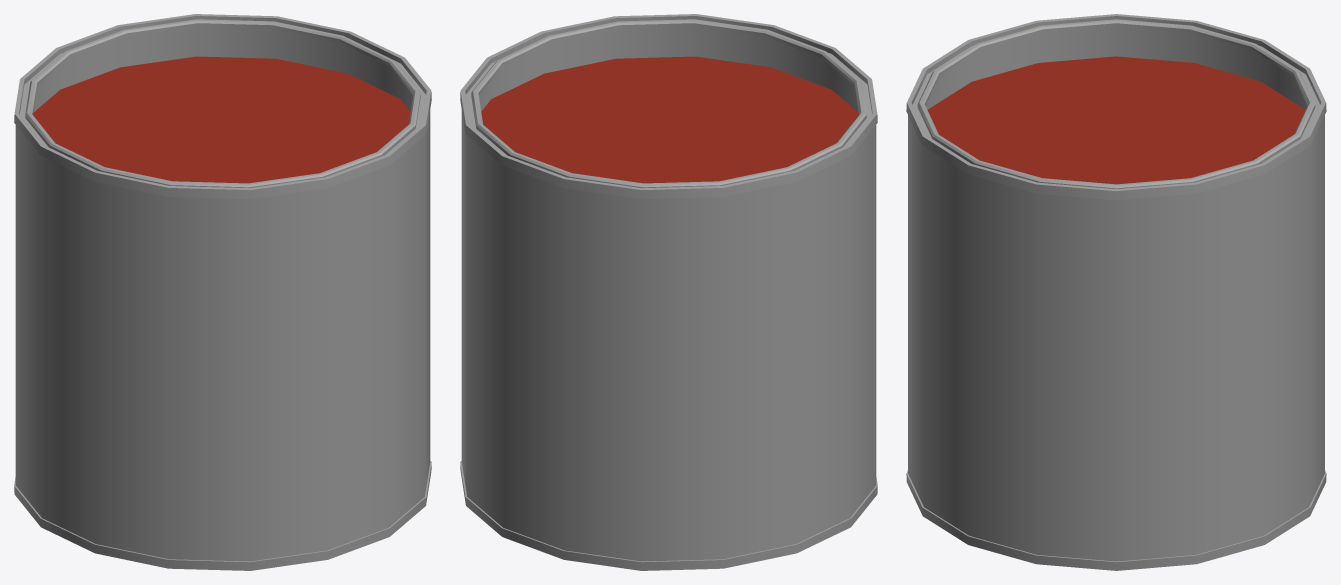
File: PaintCan_Red.fbx
3 renders of one model, left to right at view 1: azimuth 30°, elevation 25°; view 2: azimuth 150°, elevation 25°; view 3: azimuth 270°, elevation 25°, orthographic.
Parts seen in each view (by area): view 1: Cylinder, Cylinder.001; view 2: Cylinder, Cylinder.001; view 3: Cylinder, Cylinder.001.
Boxes of the visible parts, bbox=[...] form: Cylinder: bbox=[14, 14, 431, 570]; Cylinder.001: bbox=[33, 56, 410, 183]; Cylinder: bbox=[460, 14, 877, 570]; Cylinder.001: bbox=[481, 56, 858, 183]; Cylinder: bbox=[906, 14, 1326, 570]; Cylinder.001: bbox=[927, 56, 1305, 184].
Bounding box in the file's own units: 40.32 × 40.22 × 40.32.
